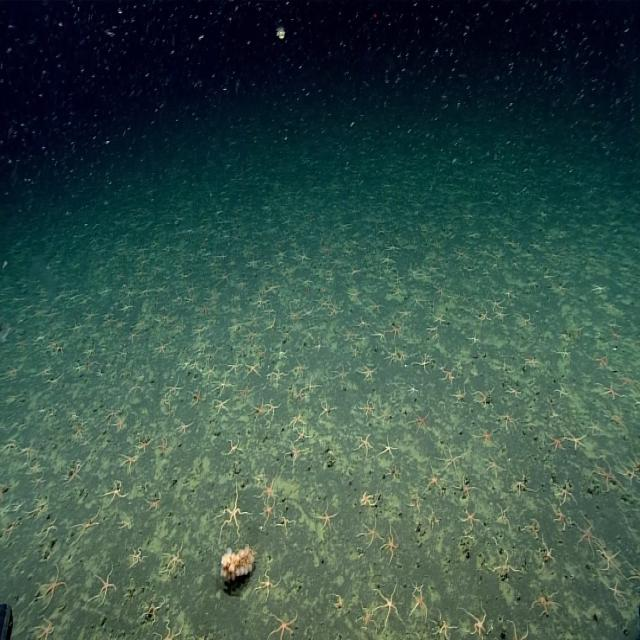brittle-stars: (216, 481, 246, 540), (374, 580, 400, 629), (36, 566, 67, 606), (88, 564, 117, 605), (573, 516, 597, 558), (462, 602, 491, 636), (72, 507, 99, 540), (160, 540, 184, 576), (596, 541, 622, 574), (592, 458, 617, 492), (270, 610, 298, 640), (532, 589, 558, 617), (602, 578, 628, 606), (439, 444, 462, 475), (102, 479, 128, 506), (424, 464, 445, 496), (140, 595, 163, 624), (360, 517, 384, 544), (257, 569, 279, 598), (316, 502, 338, 531), (494, 552, 518, 578), (618, 459, 640, 487), (382, 526, 400, 560), (358, 602, 378, 632), (409, 592, 429, 621), (38, 516, 58, 544), (564, 427, 588, 450), (509, 474, 533, 497), (554, 483, 575, 508), (258, 476, 279, 501), (354, 432, 374, 458), (474, 424, 496, 447), (472, 386, 494, 409), (548, 503, 566, 530), (598, 380, 621, 400), (262, 496, 277, 526), (31, 495, 48, 521), (0, 520, 21, 541), (459, 508, 480, 529), (286, 441, 306, 463), (484, 454, 502, 478), (119, 452, 140, 472), (410, 411, 430, 432), (435, 617, 454, 639), (460, 476, 476, 502), (35, 617, 53, 640), (65, 461, 82, 485), (498, 412, 518, 432), (380, 436, 397, 458), (166, 377, 185, 396), (360, 488, 379, 507), (505, 382, 523, 402), (449, 386, 467, 406), (250, 398, 267, 419), (212, 398, 231, 416), (291, 358, 308, 378), (416, 352, 432, 373), (360, 363, 378, 381), (226, 358, 244, 376), (213, 376, 231, 394), (237, 382, 254, 401), (128, 547, 144, 567), (144, 495, 164, 511), (548, 433, 564, 453), (359, 398, 375, 418), (278, 514, 294, 534), (319, 398, 334, 419), (113, 410, 127, 432), (592, 353, 610, 370), (268, 369, 287, 385), (242, 325, 258, 344), (175, 418, 191, 436), (190, 388, 206, 406), (440, 367, 456, 385), (334, 364, 350, 382), (226, 438, 242, 456), (378, 404, 393, 423), (265, 399, 280, 418), (388, 322, 402, 342), (304, 376, 318, 396), (555, 346, 572, 362), (488, 294, 505, 310), (155, 437, 170, 455), (155, 339, 169, 358), (290, 409, 304, 428), (385, 345, 399, 364), (346, 285, 362, 301), (371, 329, 387, 345), (136, 438, 151, 455), (380, 251, 393, 270), (27, 460, 43, 475), (432, 311, 448, 326), (294, 250, 310, 265), (265, 280, 280, 296), (84, 307, 98, 324), (204, 361, 218, 378), (475, 308, 491, 322), (368, 298, 382, 314), (316, 296, 330, 312), (287, 306, 299, 324), (468, 331, 481, 346), (296, 428, 309, 443), (30, 475, 46, 487), (159, 392, 171, 408), (392, 271, 403, 288), (406, 382, 419, 396), (254, 296, 268, 309), (410, 578, 422, 593), (397, 306, 412, 318), (128, 329, 141, 342), (301, 276, 314, 289), (139, 284, 151, 298), (294, 387, 304, 402), (74, 362, 84, 374)
